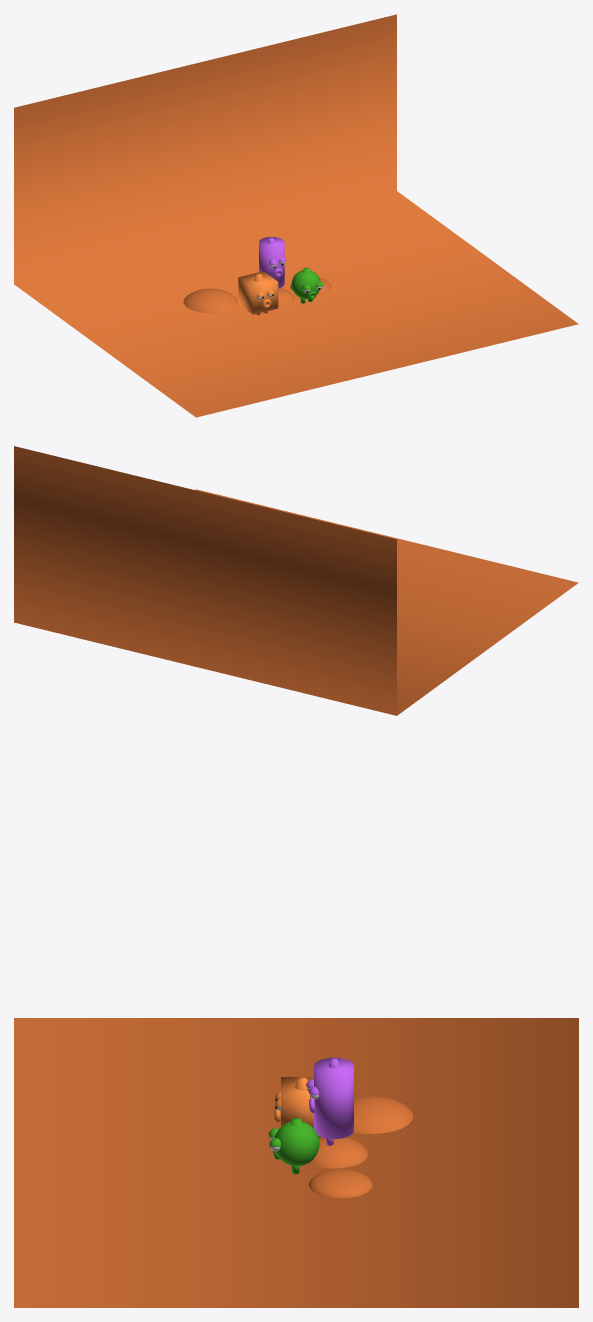
The model's file is 三兄弟.glb.
3 views of the same model, one above another, from view 1: azimuth 30°, elevation 25°; view 2: azimuth 150°, elevation 25°; view 3: azimuth 270°, elevation 25° (orthographic). The views are drawn at different scales.
Parts seen in each view (by area): view 1: 平面, 立方体.001, 球体.020, 柱体.005, 球体; view 2: 平面; view 3: 平面, 柱体.005, 球体.020, 球体, 球体.021, 球体.019, 立方体.001.
Part boxes in pixels (left/top/right/bottom): 平面: left=14, top=14, right=578, bottom=417; 立方体.001: left=238, top=271, right=278, bottom=314; 球体.020: left=183, top=288, right=237, bottom=313; 柱体.005: left=259, top=237, right=284, bottom=288; 球体: left=291, top=270, right=320, bottom=298; 平面: left=14, top=446, right=578, bottom=715; 平面: left=14, top=1018, right=578, bottom=1307; 柱体.005: left=314, top=1057, right=353, bottom=1138; 球体.020: left=353, top=1096, right=413, bottom=1133; 球体: left=275, top=1121, right=319, bottom=1166; 球体.021: left=309, top=1169, right=372, bottom=1198; 球体.019: left=308, top=1137, right=368, bottom=1168; 立方体.001: left=281, top=1077, right=321, bottom=1137.
Bounding box in the file's own units: 30.05 × 14.95 × 24.75.
